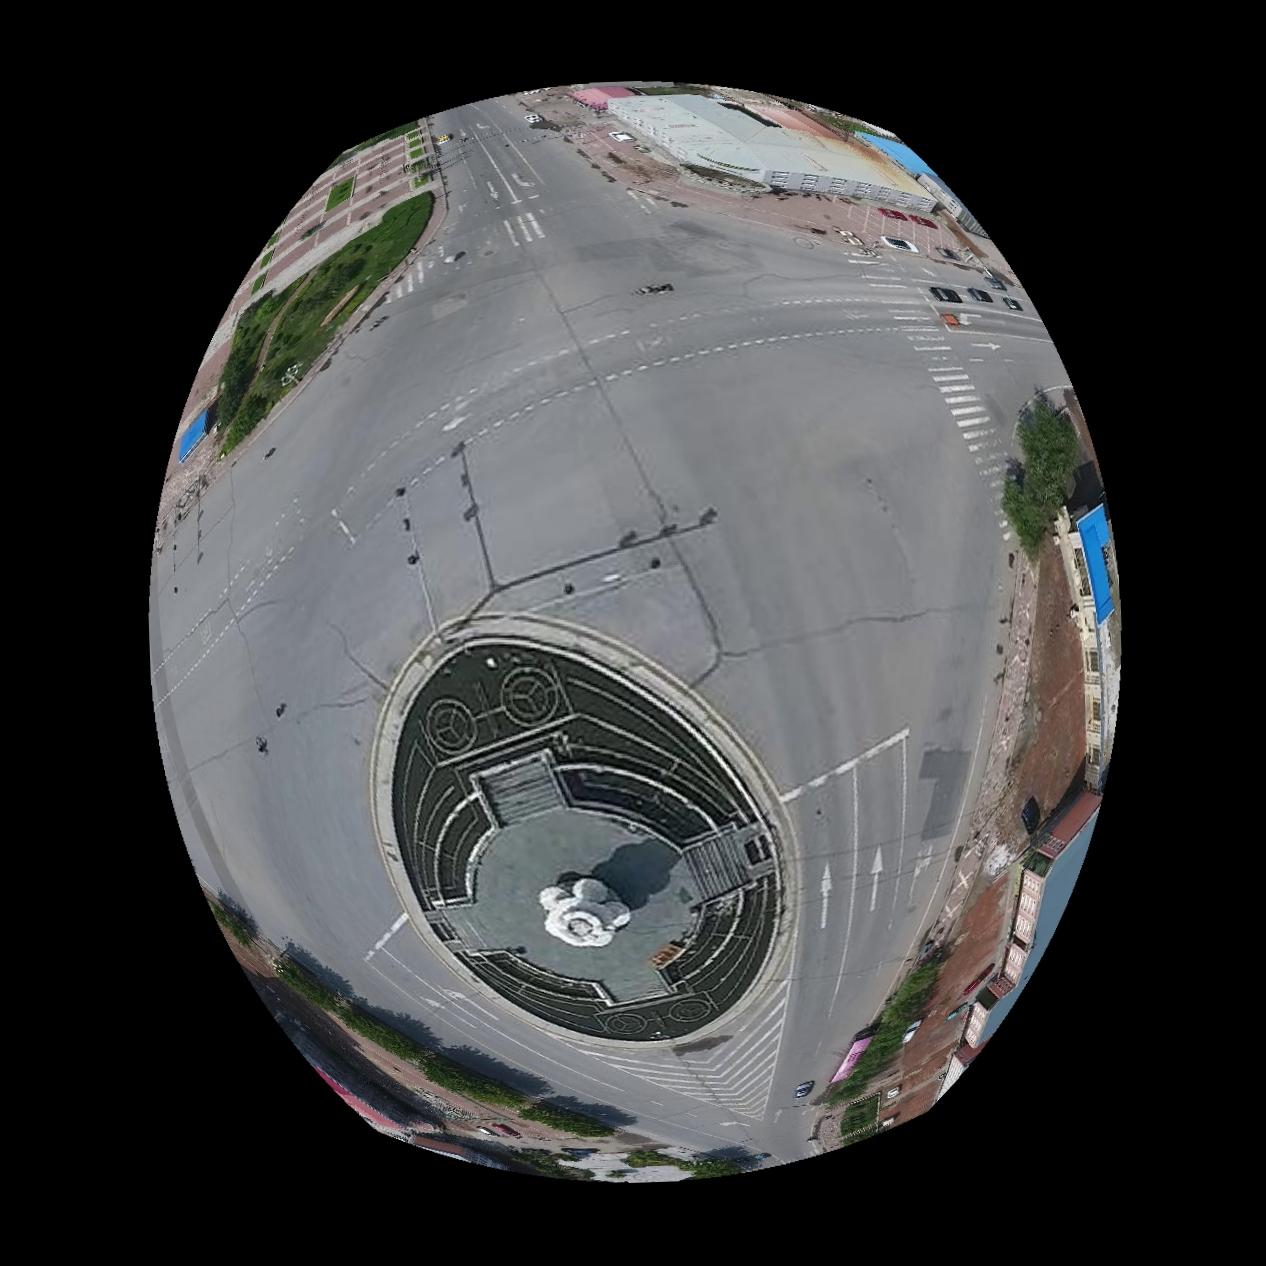building: (1055, 503, 1120, 791), (175, 408, 204, 463)
cars: (830, 1026, 878, 1084), (1021, 798, 1041, 835), (882, 235, 919, 252), (930, 284, 961, 300), (792, 1083, 814, 1101), (878, 205, 908, 218), (909, 213, 937, 226), (968, 286, 992, 300), (937, 245, 959, 260), (1004, 296, 1023, 310)
trees: (211, 191, 432, 454), (824, 950, 948, 1108), (1003, 400, 1078, 559), (339, 1009, 423, 1067), (419, 1061, 518, 1109), (518, 1103, 613, 1140), (271, 955, 327, 1013), (203, 893, 256, 947), (623, 1150, 691, 1172), (691, 1155, 744, 1179)
